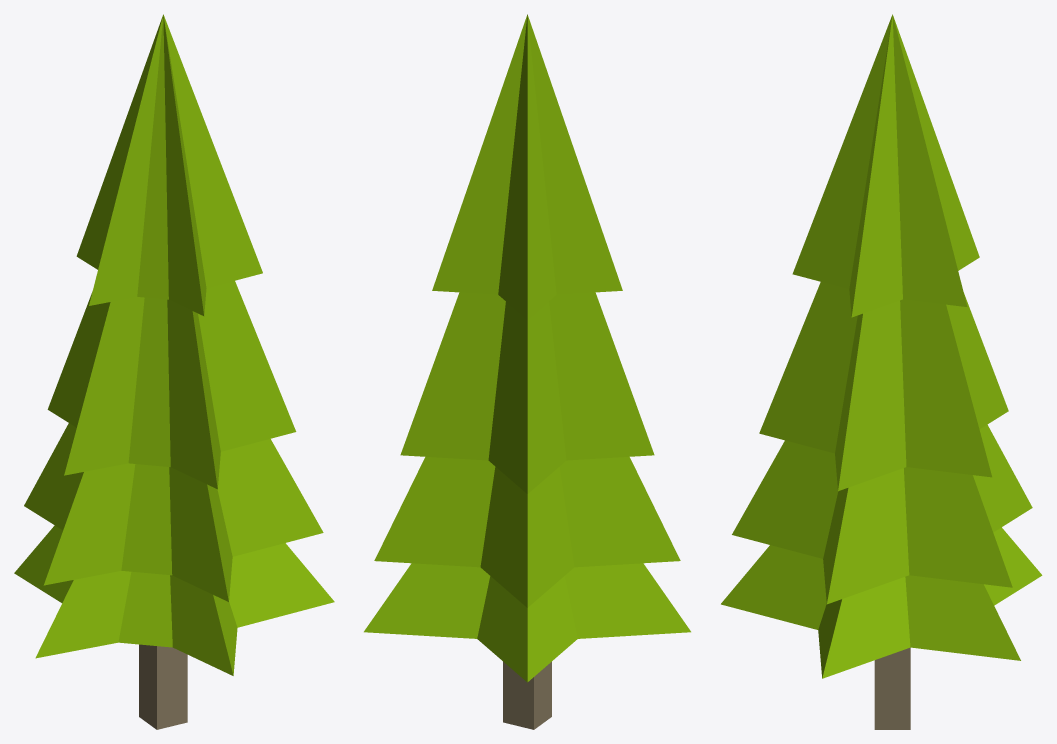
The model's file is tree_pine_star_1.fbx.
3 renders of one model, left to right at view 1: azimuth 30°, elevation 25°; view 2: azimuth 150°, elevation 25°; view 3: azimuth 270°, elevation 25°, orthographic.
Parts seen in each view (by area): view 1: tree_pine_star_1; view 2: tree_pine_star_1; view 3: tree_pine_star_1.
Part boxes in pixels (x1=…): tree_pine_star_1: x1=14, y1=14, x2=334, y2=729; tree_pine_star_1: x1=364, y1=14, x2=690, y2=729; tree_pine_star_1: x1=721, y1=14, x2=1042, y2=729.
Size of the model in its own units: 113 by 269 by 111.
